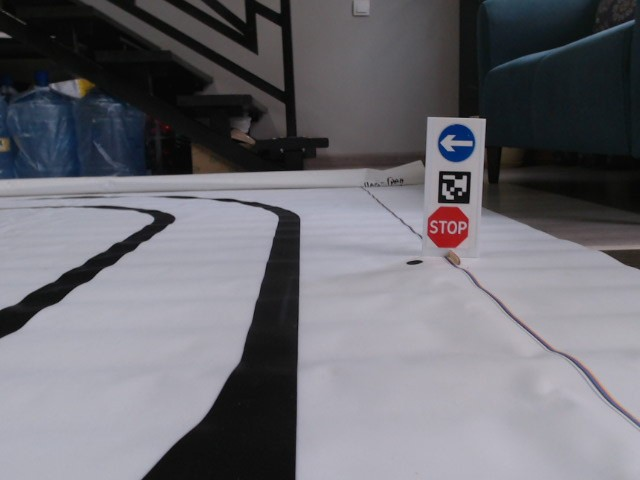Stop: (426, 204, 471, 250)
